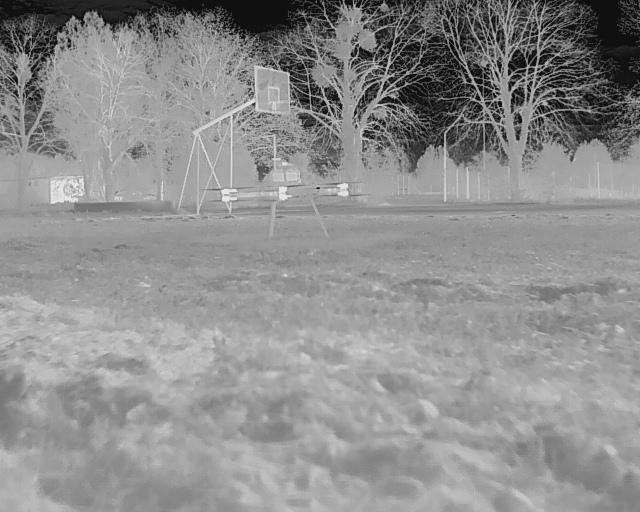drone: (199, 161, 377, 251)
